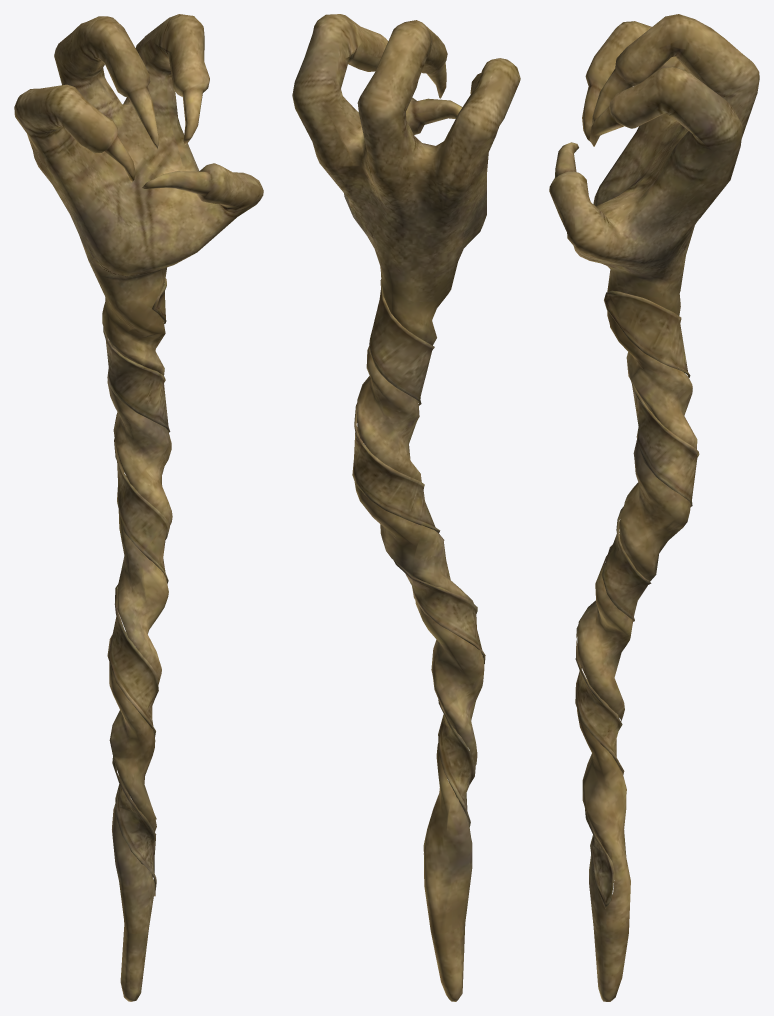
The model's file is orb.glb.
The picture shows the model from 3 angles, left to right: view 1: azimuth 30°, elevation 25°; view 2: azimuth 150°, elevation 25°; view 3: azimuth 270°, elevation 25°; orthographic projection. The views are drawn at different scales.
Visible parts, largest first — view 1: Object_2; view 2: Object_2; view 3: Object_2.
Part boxes in pixels (x1,y1,x2,y2): Object_2: [14, 14, 263, 1001]; Object_2: [292, 14, 520, 1001]; Object_2: [549, 14, 759, 1001].
Bounding box in the file's own units: 2.71 × 12.42 × 2.4.
2 materials, 2 textured.
